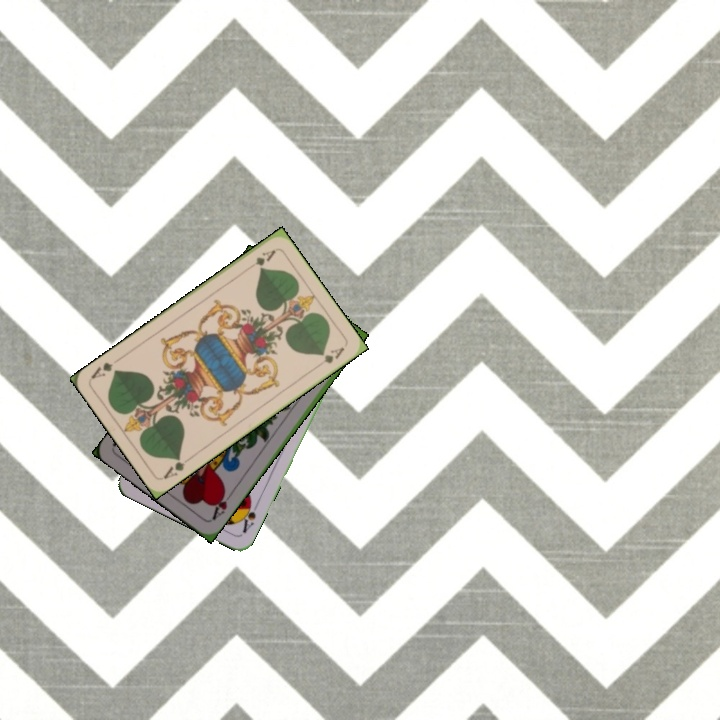GA: (159, 453, 195, 482), (243, 246, 278, 273)
HA: (208, 485, 236, 523)
SA: (236, 496, 259, 536)
